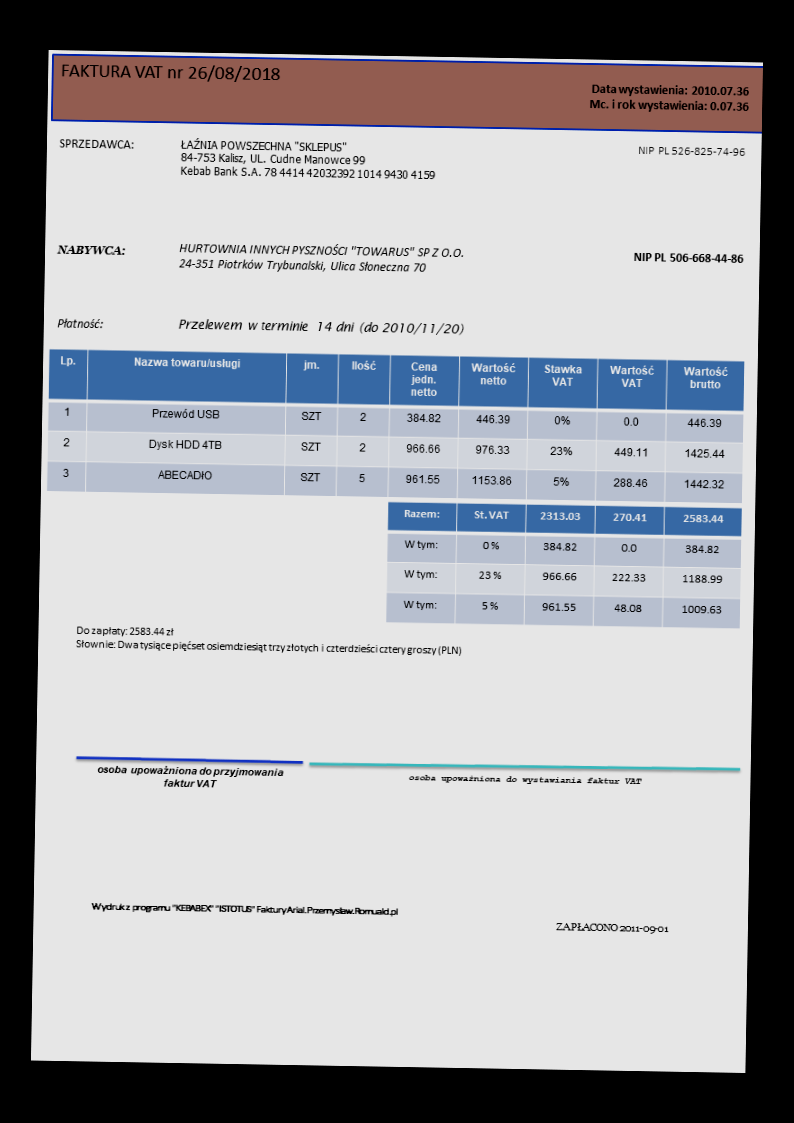Table: (45, 347, 746, 505), (384, 501, 744, 630)
TextBox: (74, 622, 464, 659), (178, 135, 439, 182), (176, 239, 466, 275), (88, 900, 401, 918), (59, 61, 282, 86), (177, 317, 467, 336), (587, 81, 753, 114), (96, 764, 287, 791), (406, 771, 644, 788), (553, 919, 672, 936), (631, 249, 746, 266), (636, 143, 748, 159), (57, 135, 136, 151), (55, 242, 129, 258), (55, 316, 104, 330)
